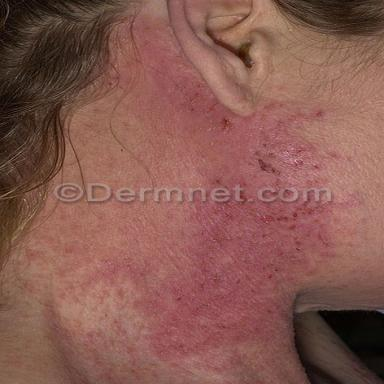Darier_s-Disease: (88, 204, 350, 384), (133, 17, 340, 186)
